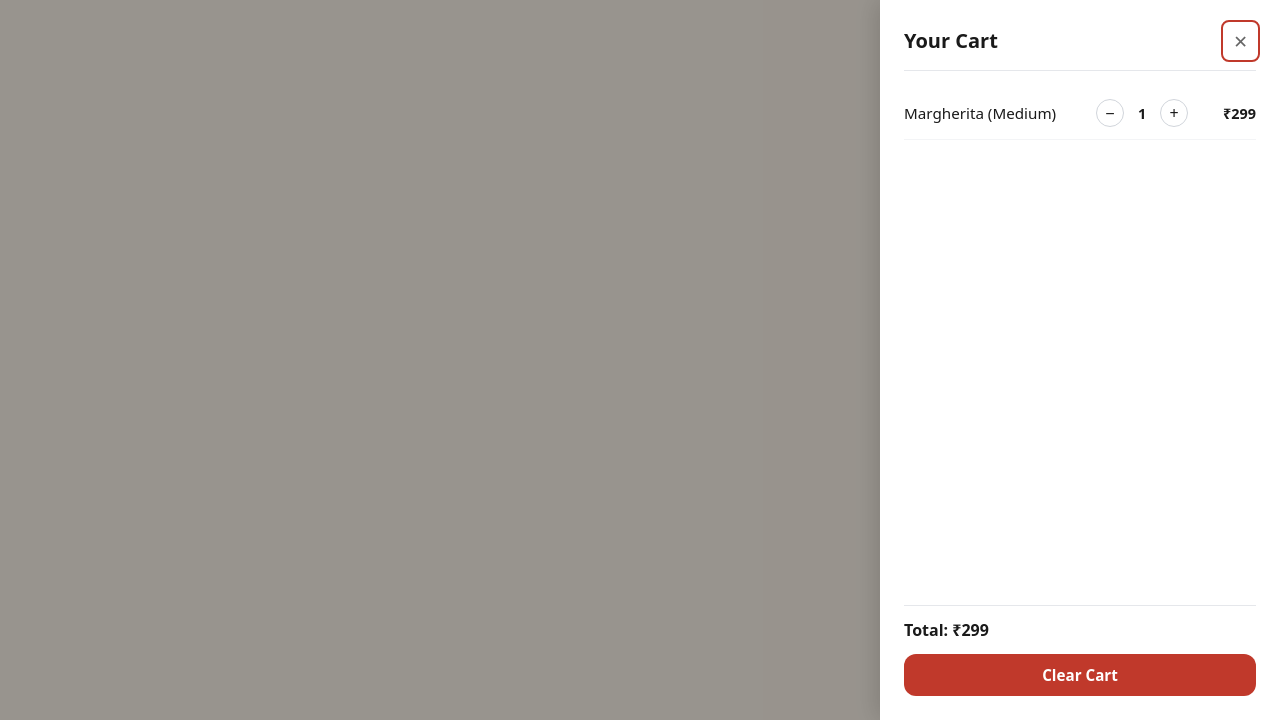
Test: CartPanel – + / − controls › clicking − when quantity===1 removes the item from the rendered list
Click the button named "decrease quantity of margherita (medium)" at {"x": 1110, "y": 113}, box [1096, 99, 1124, 127]
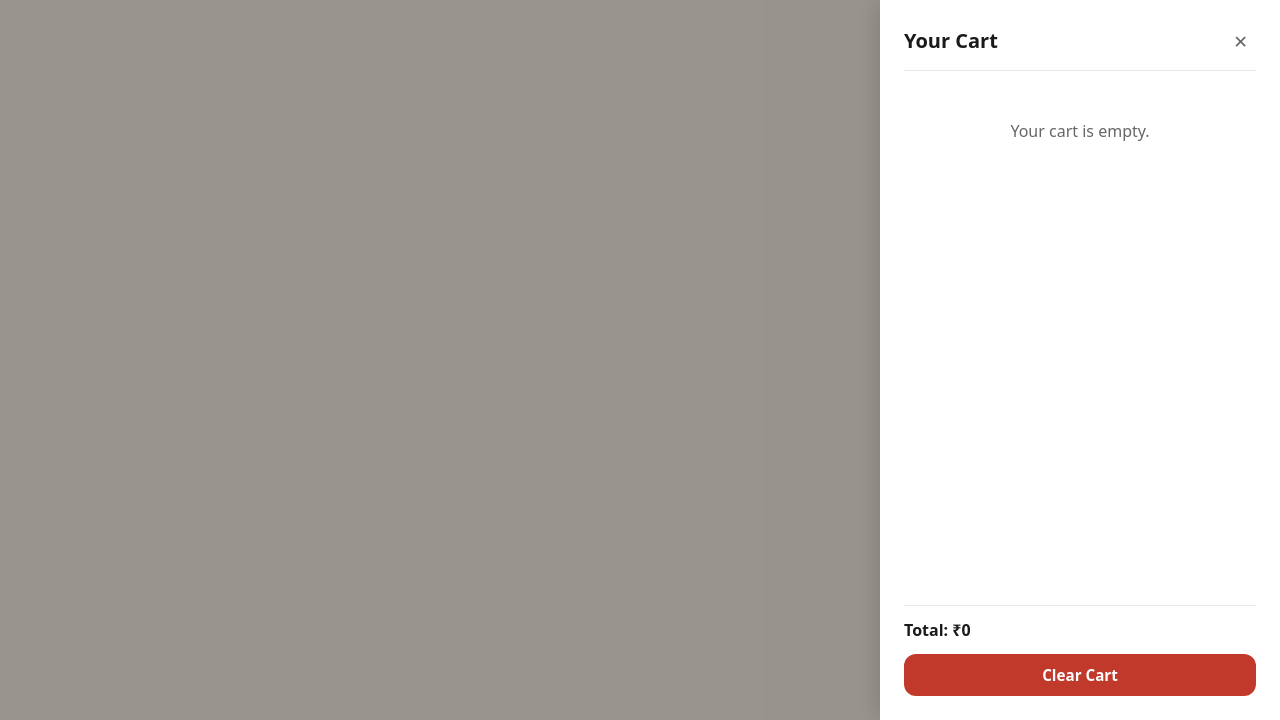
Expected: the text "Margherita (Medium)" is gone
Expected: the text "Your cart is empty." is shown, [1010, 120, 1150, 142]
